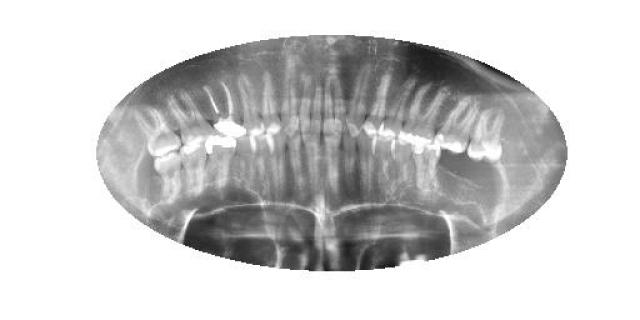Fillings: (400, 83, 446, 145), (434, 95, 480, 154), (202, 136, 236, 190), (410, 144, 442, 188)
Implant: (203, 80, 245, 138)
